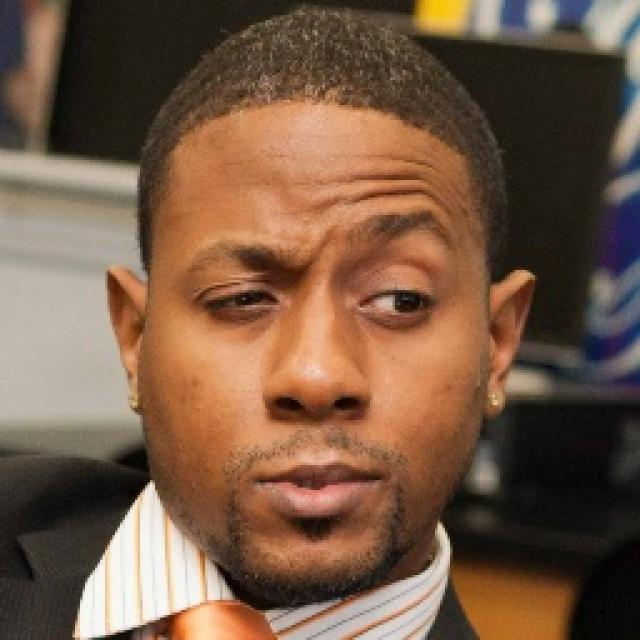earlobe: (482, 372, 507, 417), (124, 367, 143, 417)
eye: (363, 282, 439, 323), (199, 278, 282, 314)
nose: (268, 397, 369, 464)
wholeear: (482, 269, 536, 417), (104, 263, 143, 417)
